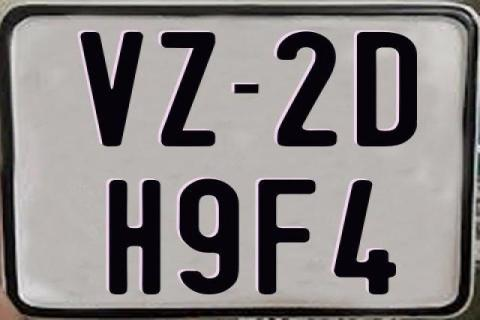0: (278, 30, 344, 148), (178, 178, 242, 296), (332, 178, 396, 296)
D: (357, 31, 417, 145)
F: (255, 177, 314, 296)
H: (109, 180, 162, 296)
V: (78, 31, 141, 147)
Z: (159, 32, 215, 146)
